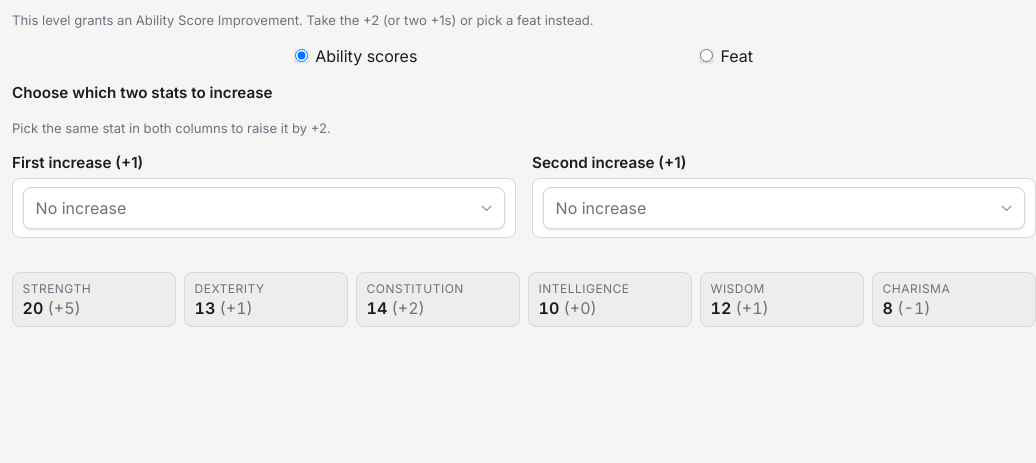
it: LevelUpAdvancementStep — the ability score ceiling › doesn't offer a stat that's already at 20
The width and height of the screenshot is (1036, 463).
Click the button with aria-label "First increase" at (81, 208), box [23, 187, 505, 229]
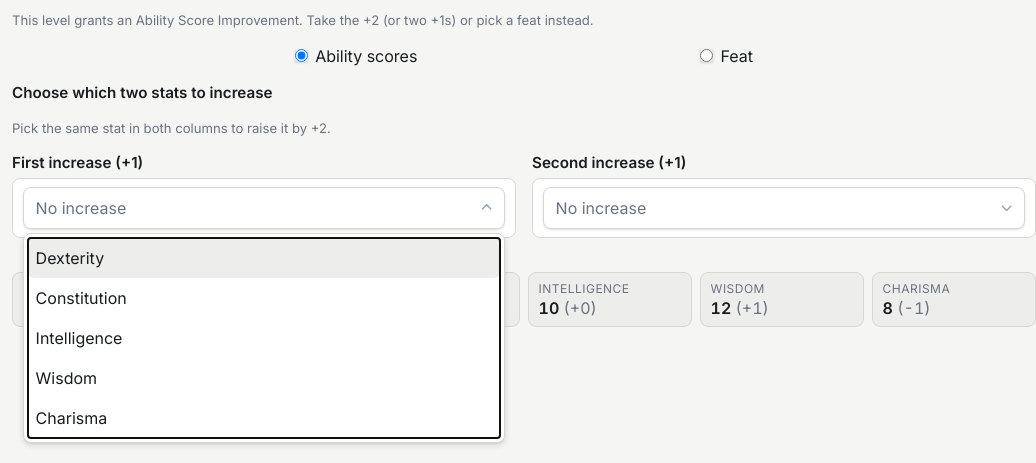
Check: the option "Dexterity" is shown, box [28, 238, 500, 278]
